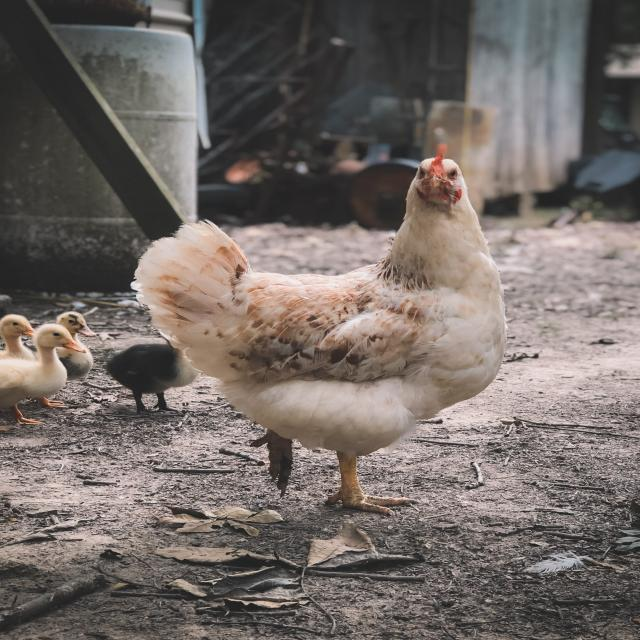chicken: (85, 167, 640, 594)
